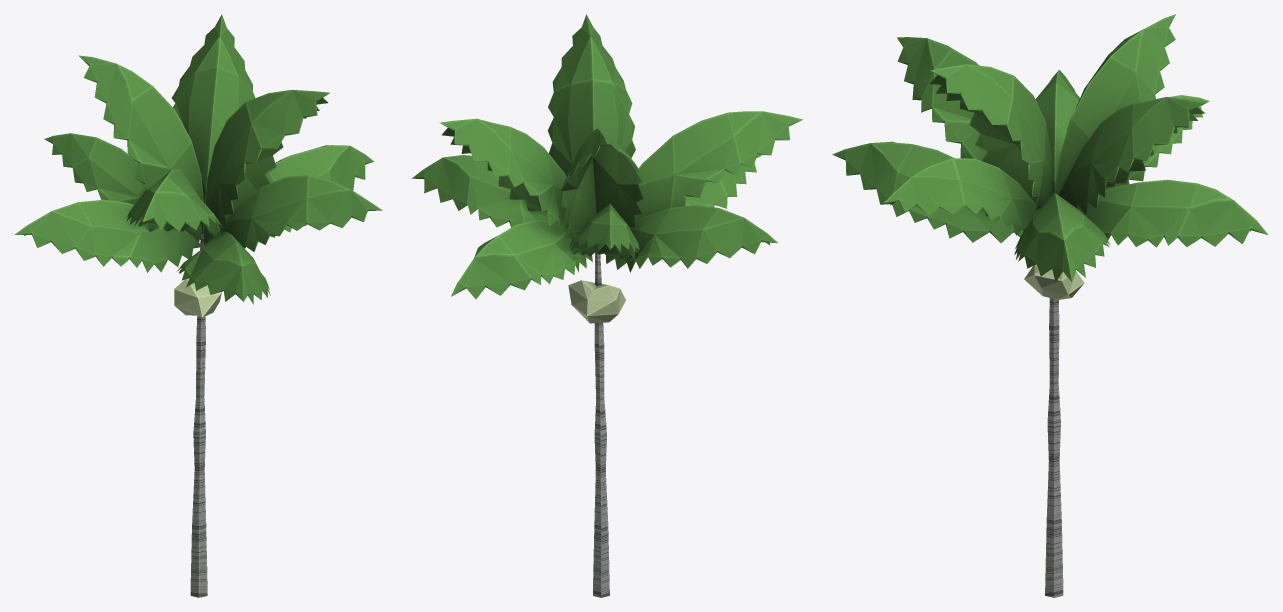
Rendered from WininPalmTree.obj.
The picture shows the model from 3 angles, left to right: view 1: azimuth 30°, elevation 25°; view 2: azimuth 150°, elevation 25°; view 3: azimuth 270°, elevation 25°; orthographic projection. The views are drawn at different scales.
Parts seen in each view (by area): view 1: WininPalmTree_mesh; view 2: WininPalmTree_mesh; view 3: WininPalmTree_mesh.
Part boxes in pixels (x1,y1,x2,y2): WininPalmTree_mesh: [14, 14, 382, 597]; WininPalmTree_mesh: [412, 14, 802, 597]; WininPalmTree_mesh: [832, 14, 1268, 597].
Bounding box in the file's own units: 9.55 × 13.12 × 9.25.
1 material, 1 textured.
